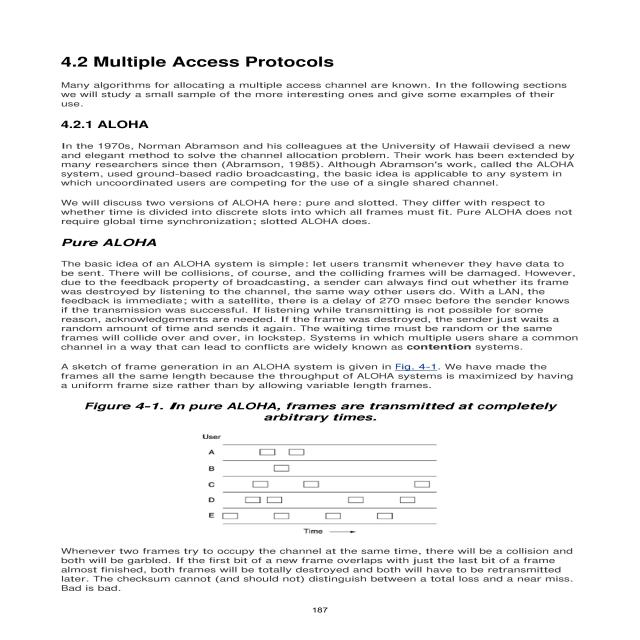diagram: (78, 398, 548, 530)
